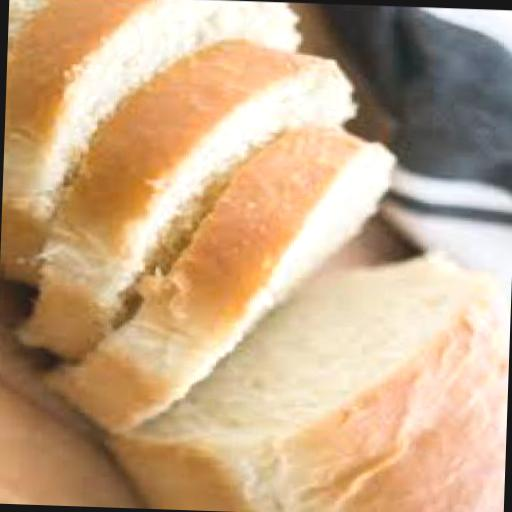biodegradable: (38, 117, 400, 444), (18, 32, 364, 368), (106, 250, 510, 512), (1, 0, 304, 294)
